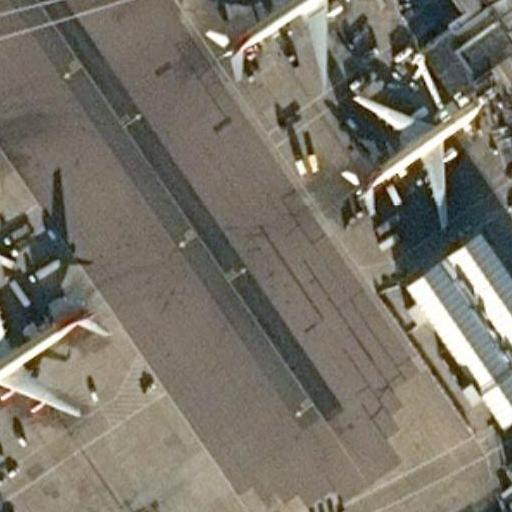Aircraft: (335, 85, 491, 228), (0, 272, 109, 425), (201, 0, 387, 89)
